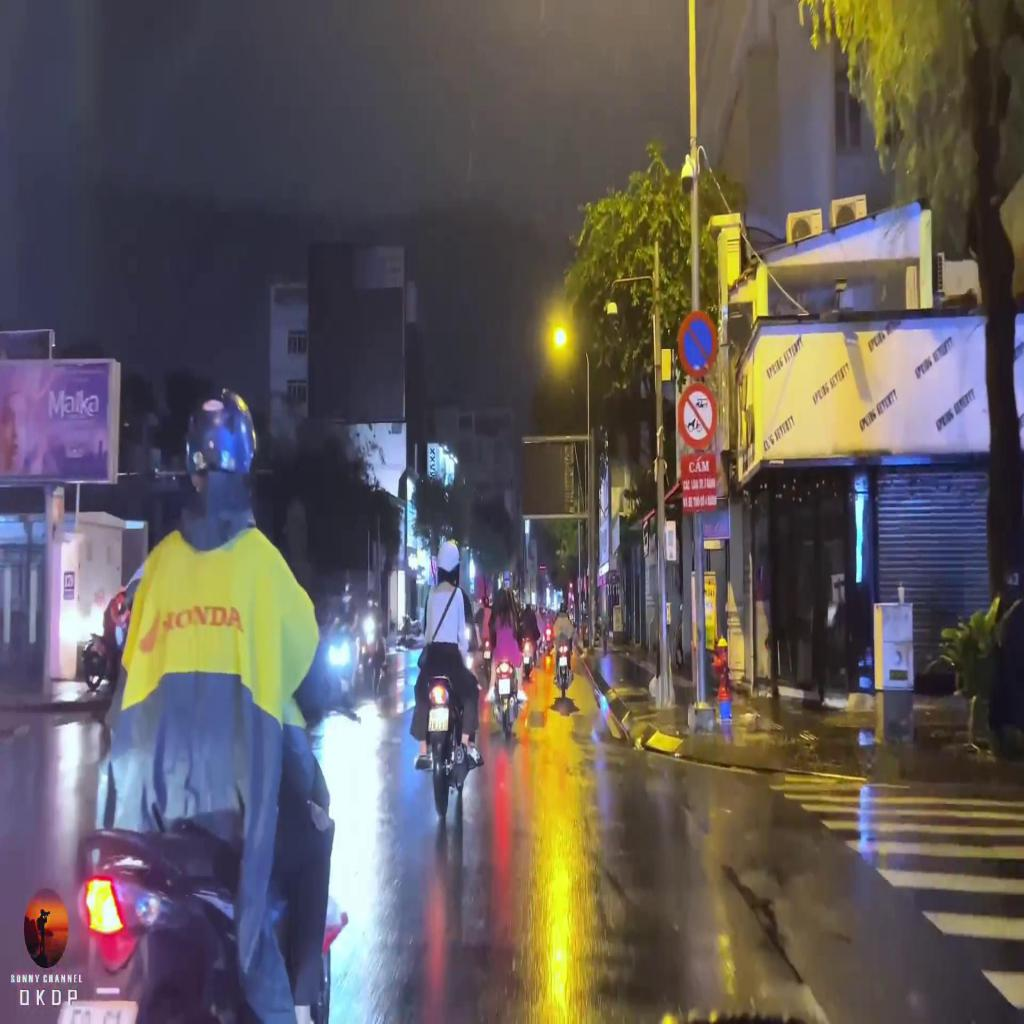cam_cac_loai_xe_3_banh: (678, 386, 716, 450)
cam_do_xe: (678, 311, 718, 377)
